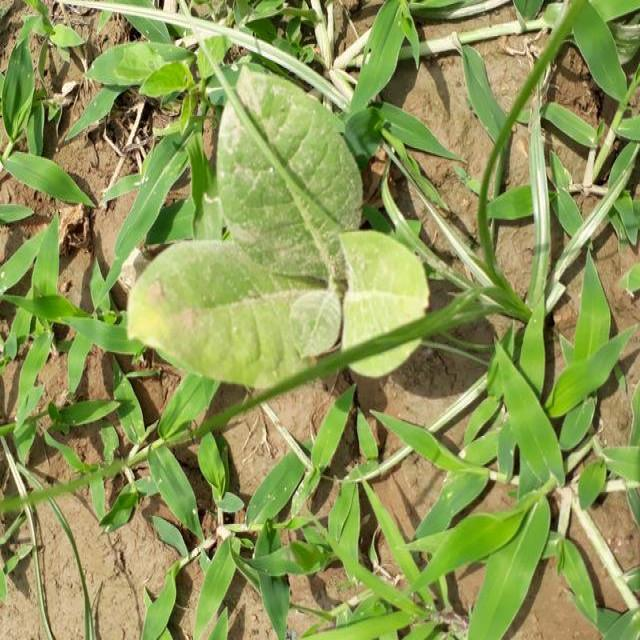crop: (129, 20, 437, 397)
